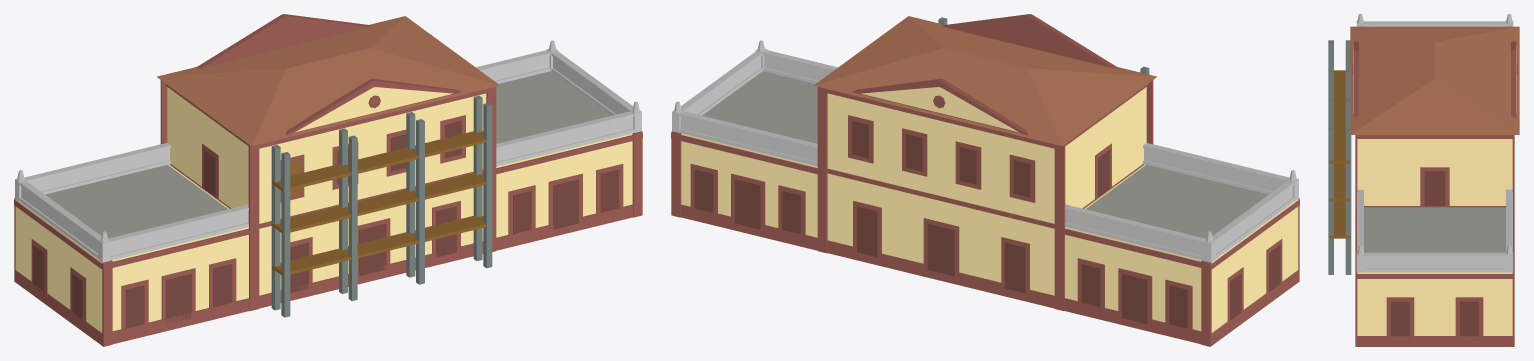
Rendered from SM_EdificioViajerosSagunto_v4_Liberada_LOD1.fbx.
The picture shows the model from 3 angles, left to right: view 1: azimuth 30°, elevation 25°; view 2: azimuth 150°, elevation 25°; view 3: azimuth 270°, elevation 25°; orthographic projection. The views are drawn at different scales.
Visible parts, largest first — view 1: SM_edificio_viajeros_sagunto_v4_LOD1; view 2: SM_edificio_viajeros_sagunto_v4_LOD1; view 3: SM_edificio_viajeros_sagunto_v4_LOD1.
Boxes of the visible parts, x1=… form: SM_edificio_viajeros_sagunto_v4_LOD1: x1=14, y1=14, x2=642, y2=346; SM_edificio_viajeros_sagunto_v4_LOD1: x1=671, y1=14, x2=1299, y2=346; SM_edificio_viajeros_sagunto_v4_LOD1: x1=1328, y1=14, x2=1519, y2=346.
Size of the model in its own units: 32.12 by 11.4 by 11.07.
